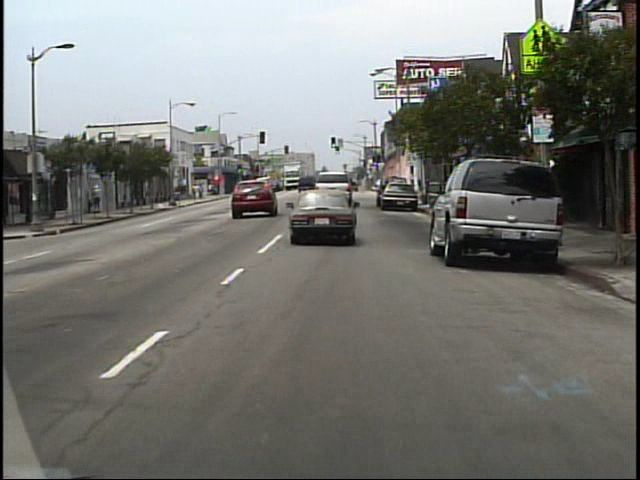person: (95, 184, 107, 214)
